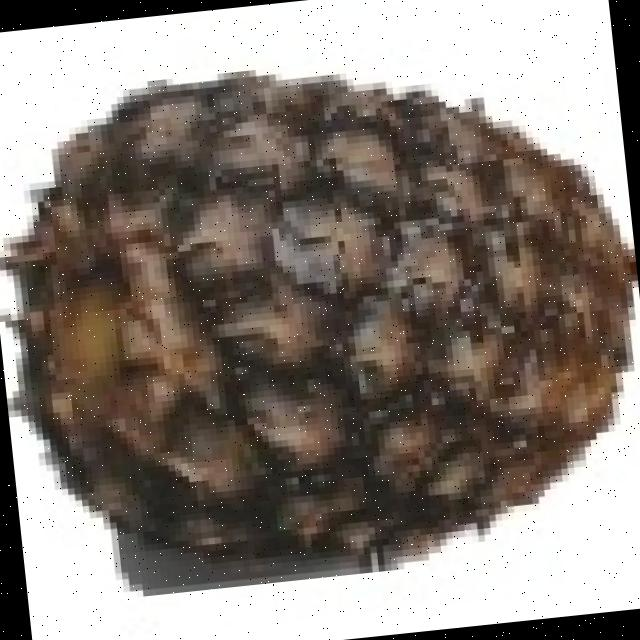pineapple: (17, 63, 637, 576)
